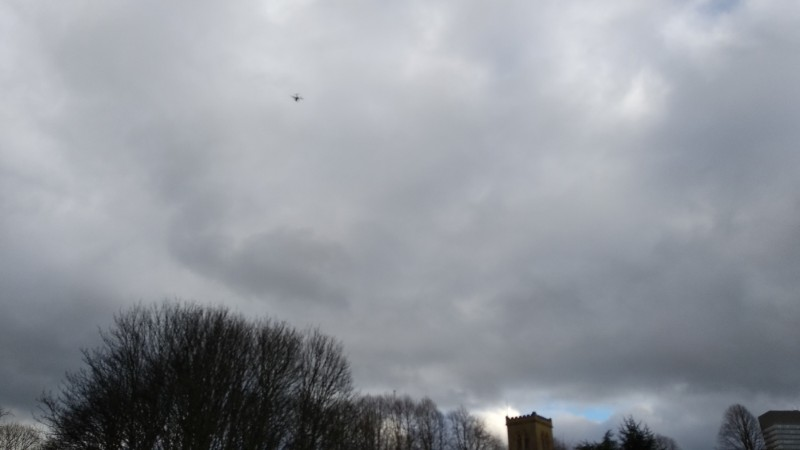drone: (291, 93, 303, 102)
